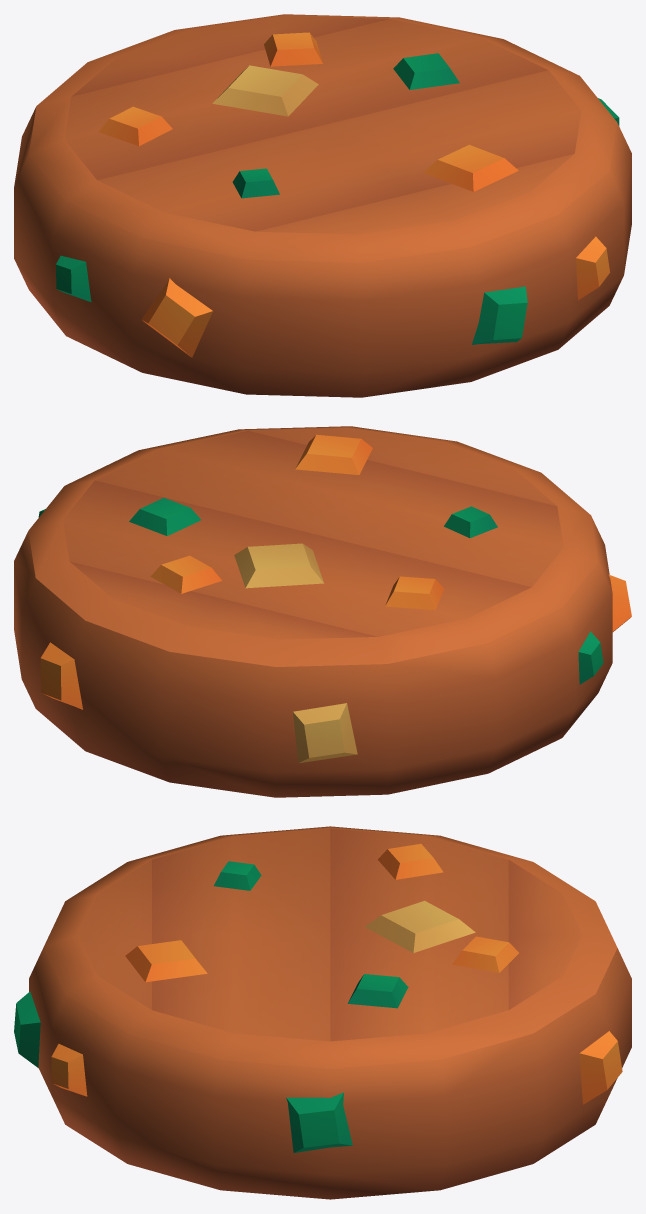
File: Cooked Vegie burger.glb
3 renders of one model, top to bottom at view 1: azimuth 30°, elevation 25°; view 2: azimuth 150°, elevation 25°; view 3: azimuth 270°, elevation 25°, orthographic. The views are drawn at different scales.
Parts seen in each view (by area): view 1: food_ingredient_vegetableburger_cooked; view 2: food_ingredient_vegetableburger_cooked; view 3: food_ingredient_vegetableburger_cooked.
Part boxes in pixels (x1=…): food_ingredient_vegetableburger_cooked: x1=14, y1=14, x2=631, y2=397; food_ingredient_vegetableburger_cooked: x1=14, y1=426, x2=631, y2=797; food_ingredient_vegetableburger_cooked: x1=14, y1=826, x2=631, y2=1199.
Size of the model in its own units: 0.728 by 0.216 by 0.7173.
1 material, 1 textured.
